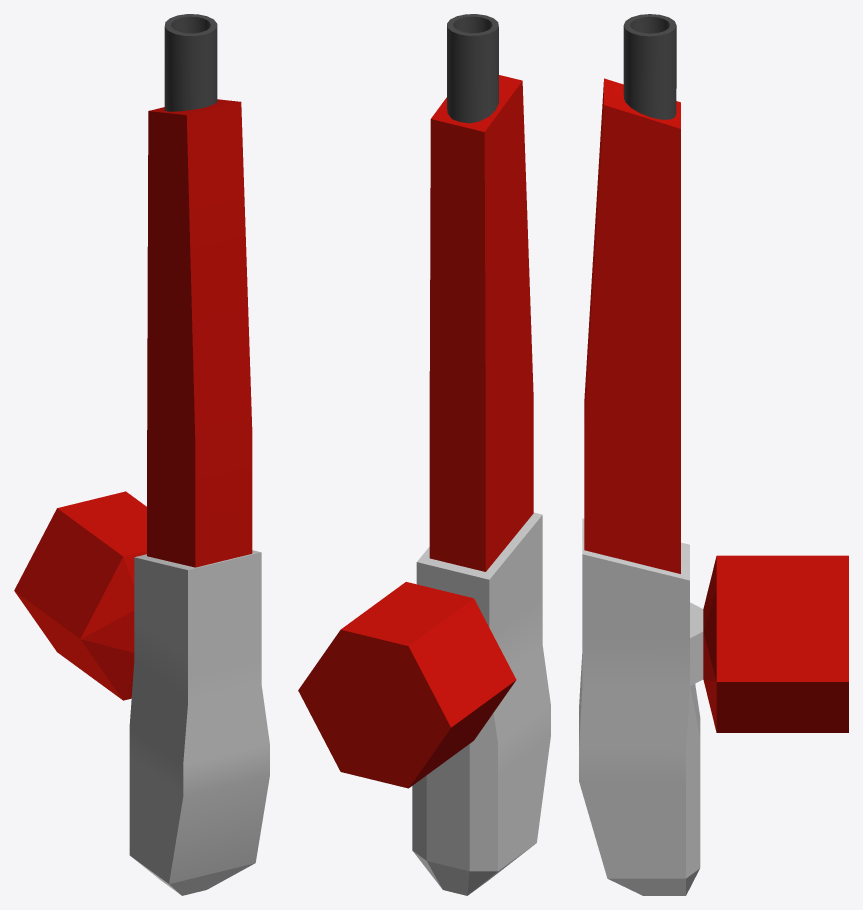
The model's file is ShootCannon.fbx.
3 views of the same model, side by side, from view 1: azimuth 30°, elevation 25°; view 2: azimuth 150°, elevation 25°; view 3: azimuth 270°, elevation 25° (orthographic).
Visible parts, largest first — view 1: ShootCannon; view 2: ShootCannon; view 3: ShootCannon.
Boxes of the visible parts, x1,y1,x2,y2 form: ShootCannon: (14, 14, 269, 895); ShootCannon: (298, 14, 550, 895); ShootCannon: (579, 14, 848, 895).
Bounding box in the file's own units: 67.5 × 360 × 102.
